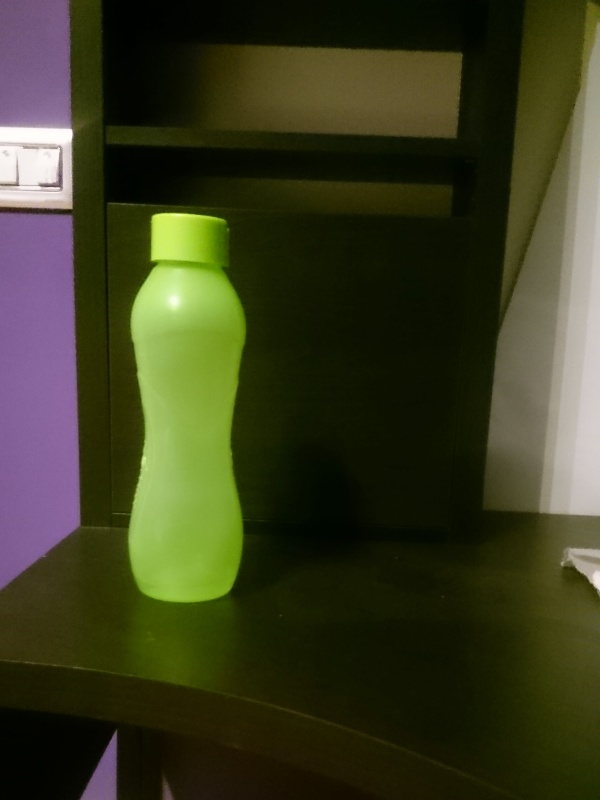my bottle: (128, 215, 246, 603)
